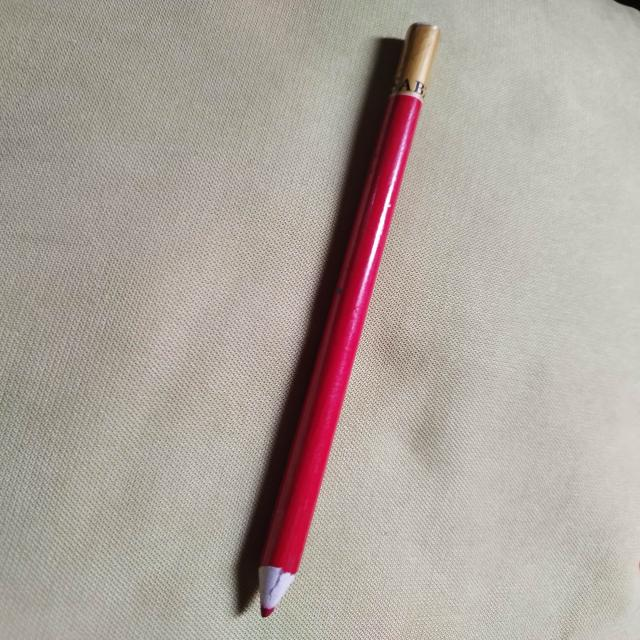pencil: (256, 22, 440, 617)
